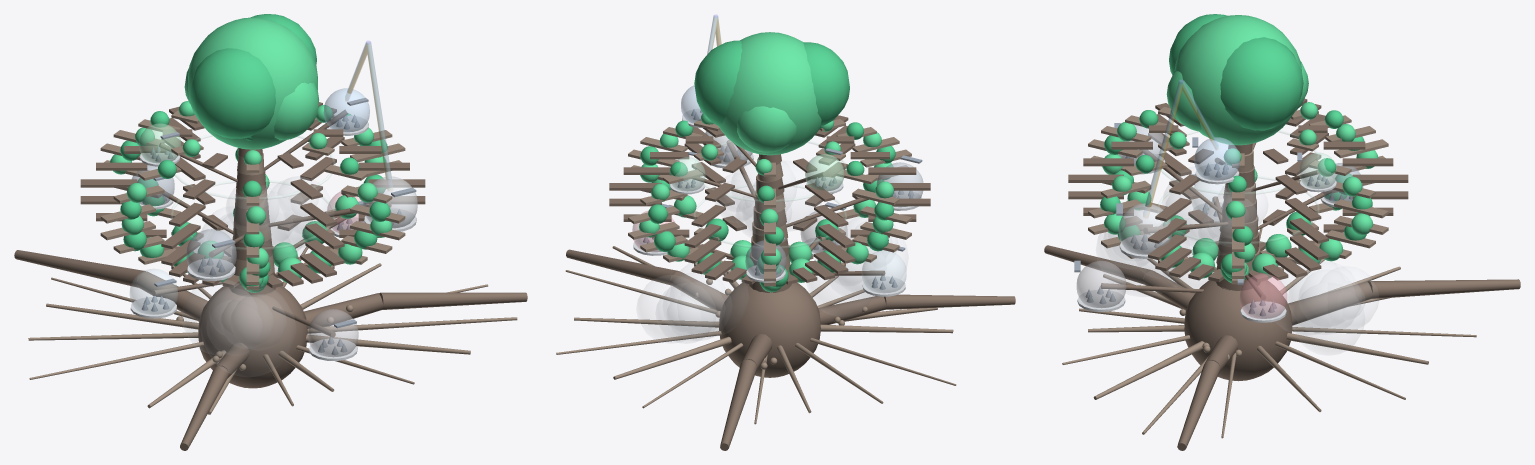
File: yggdrasil_nordic.gltf
3 views of the same model, side by side, from view 1: azimuth 30°, elevation 25°; view 2: azimuth 150°, elevation 25°; view 3: azimuth 270°, elevation 25° (orthographic). The views are drawn at different scales.
Bounding box in the file's own units: 4943 × 3720 × 4526.
